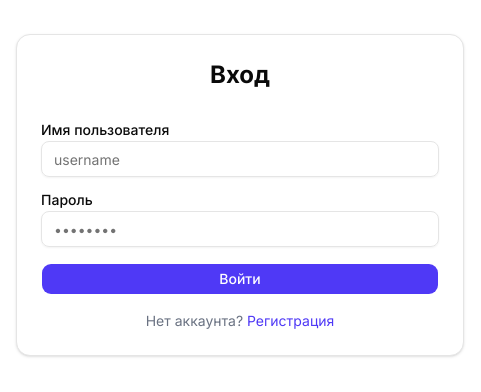
LoginPage › shows error on login failure
Type "myuser" into the field with placeholder "username" at [240, 159], box [41,141,439,177]
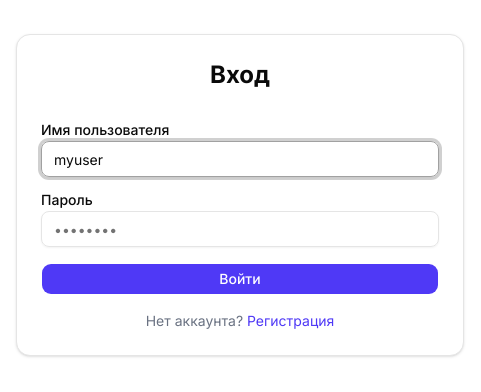
Type "wrong" into the password field with placeholder "••••••••" at [240, 229], box [41,211,439,247]
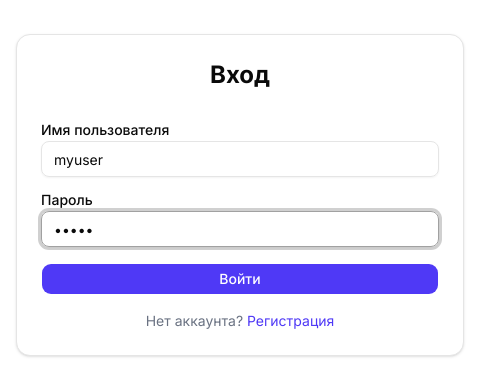
Click the button "Войти" at [240, 279], box [41,263,439,295]
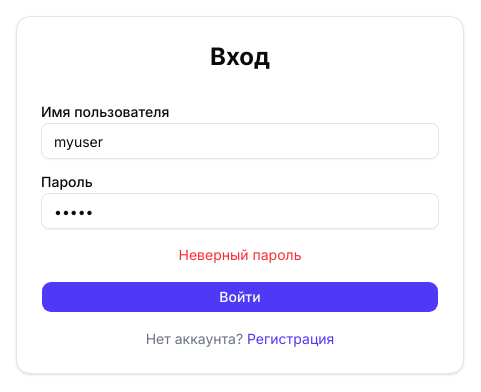
Check: the text "Неверный пароль" is shown, box [178,246,301,263]
